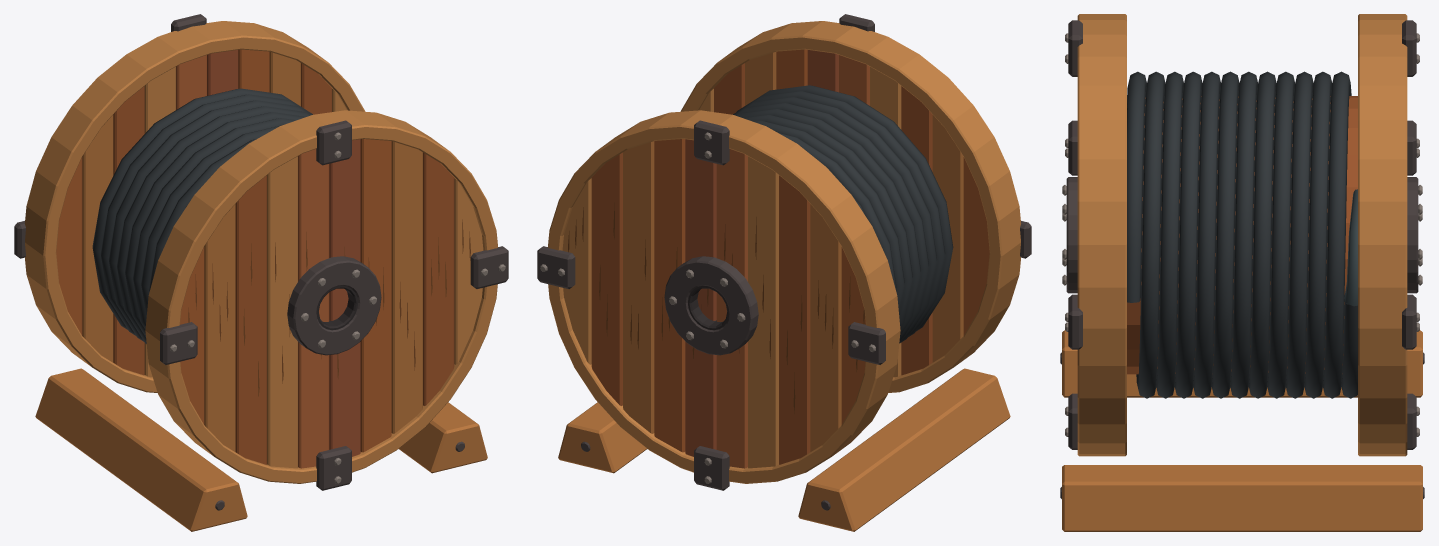
The model's file is wsc-prop-020-cable-spool.glb.
The picture shows the model from 3 angles, left to right: view 1: azimuth 30°, elevation 25°; view 2: azimuth 150°, elevation 25°; view 3: azimuth 270°, elevation 25°; orthographic projection. The views are drawn at different scales.
Visible parts, largest first — view 1: wood3, wood1, wood2, wire, wood0, iron, wood4, wood5, edge, nail, iron_dark; view 2: wood3, wood1, wire, wood2, wood0, iron, wood4, wood5, edge, nail, iron_dark; view 3: wire, wood3, wood1, iron, wood2, bend, nail.
Part boxes in pixels (bbox=[...]): wood3: bbox=[25, 21, 497, 483]; wood1: bbox=[35, 52, 487, 531]; wood2: bbox=[113, 63, 454, 464]; wire: bbox=[92, 88, 312, 343]; wood0: bbox=[56, 49, 391, 452]; iron: bbox=[14, 14, 508, 510]; wood4: bbox=[176, 55, 329, 468]; wood5: bbox=[207, 50, 360, 456]; edge: bbox=[188, 219, 470, 396]; nail: bbox=[170, 132, 505, 483]; iron_dark: bbox=[316, 285, 357, 330]; wood3: bbox=[548, 21, 1020, 483]; wood1: bbox=[558, 52, 1010, 531]; wire: bbox=[733, 85, 953, 343]; wood2: bbox=[591, 63, 932, 464]; wood0: bbox=[654, 49, 989, 452]; iron: bbox=[537, 14, 1031, 510]; wood4: bbox=[716, 55, 869, 468]; wood5: bbox=[685, 50, 838, 456]; edge: bbox=[568, 202, 864, 413]; nail: bbox=[540, 132, 875, 483]; iron_dark: bbox=[688, 285, 729, 330]; wire: bbox=[1127, 71, 1357, 398]; wood3: bbox=[1077, 14, 1407, 456]; wood1: bbox=[1062, 330, 1422, 531]; iron: bbox=[1060, 20, 1424, 498]; wood2: bbox=[1127, 96, 1357, 374]; bend: bbox=[1344, 189, 1357, 306]; nail: bbox=[1062, 33, 1422, 436].
Bounding box in the file's own units: 1.07 × 1.08 × 0.848.
